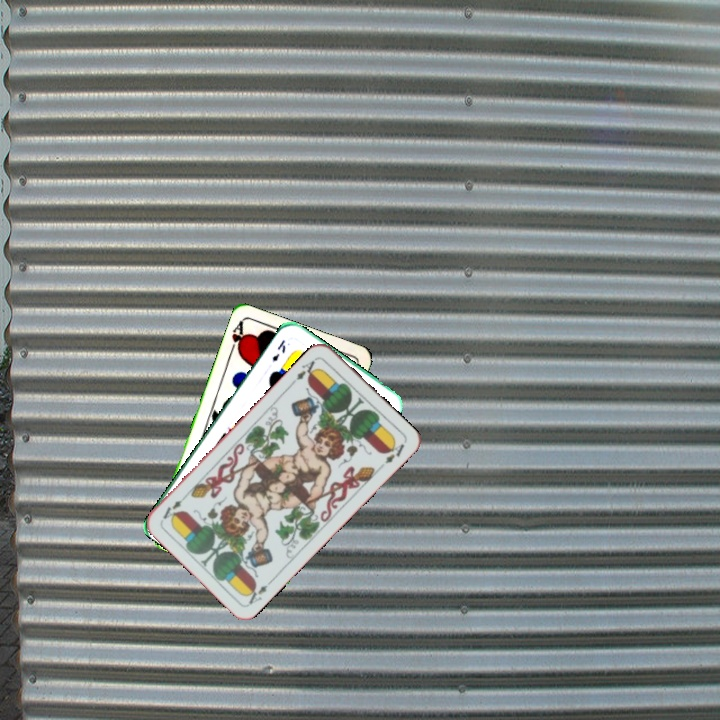EA: (242, 575, 276, 607), (292, 354, 321, 383)
EK: (268, 336, 288, 365)
HA: (225, 317, 248, 357)
